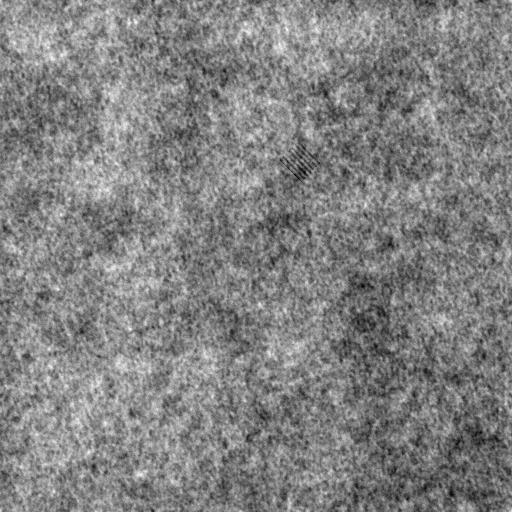impact: (277, 142, 322, 184)
